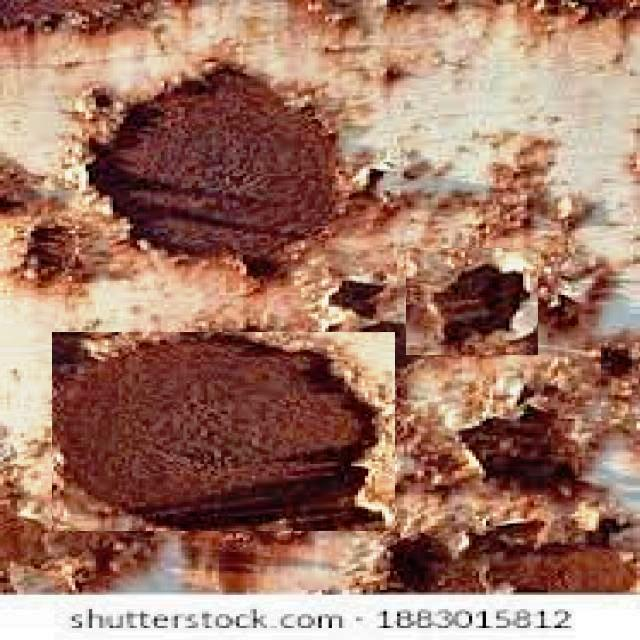Corrosion: (52, 334, 375, 530), (94, 65, 336, 260), (446, 522, 635, 594), (461, 408, 576, 490), (0, 507, 130, 576), (435, 265, 530, 344), (0, 0, 158, 30), (391, 535, 451, 594), (24, 226, 77, 277)
